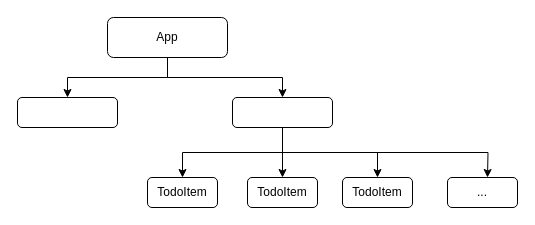
Some shapes in this 535 by 225 pixel diagram are drawn without their labels. The box of each missing label's shape, as (x1, y1, x2, y2) in pixels:
Form: (16, 96, 118, 128)
TodosList: (232, 96, 332, 128)
